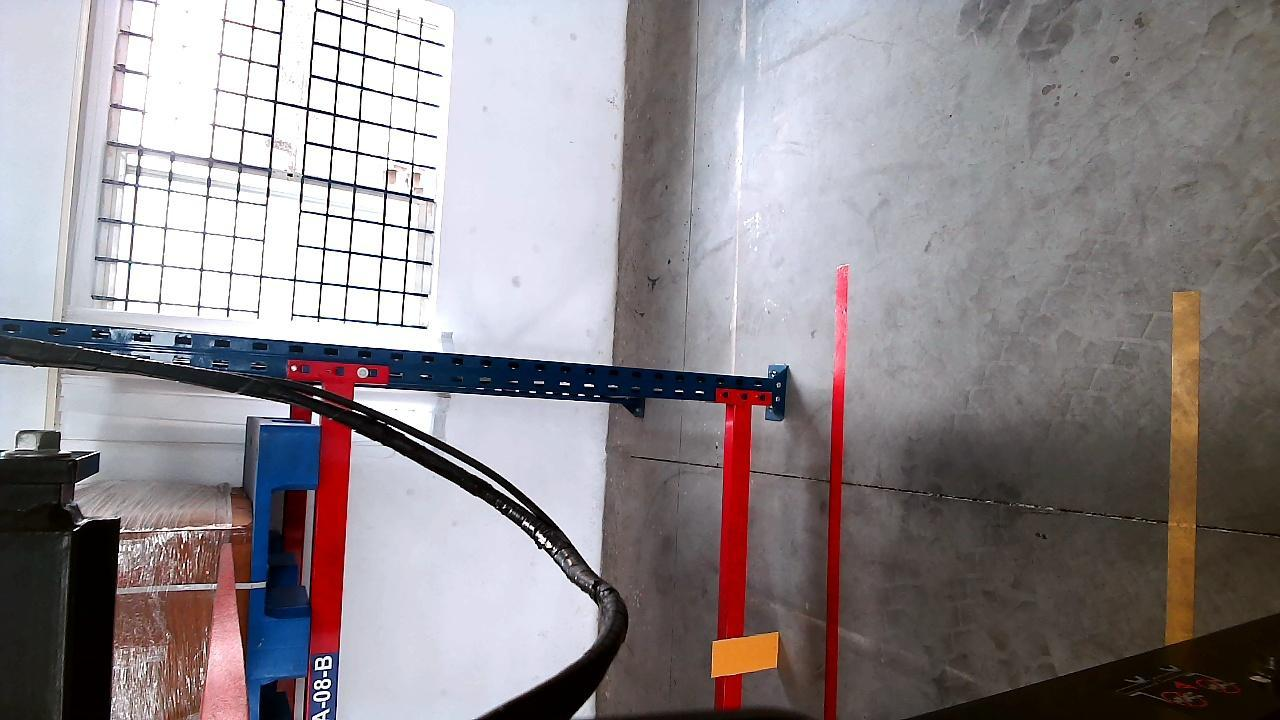red_line: (823, 267, 848, 720)
yellow_line: (1167, 290, 1202, 648)
